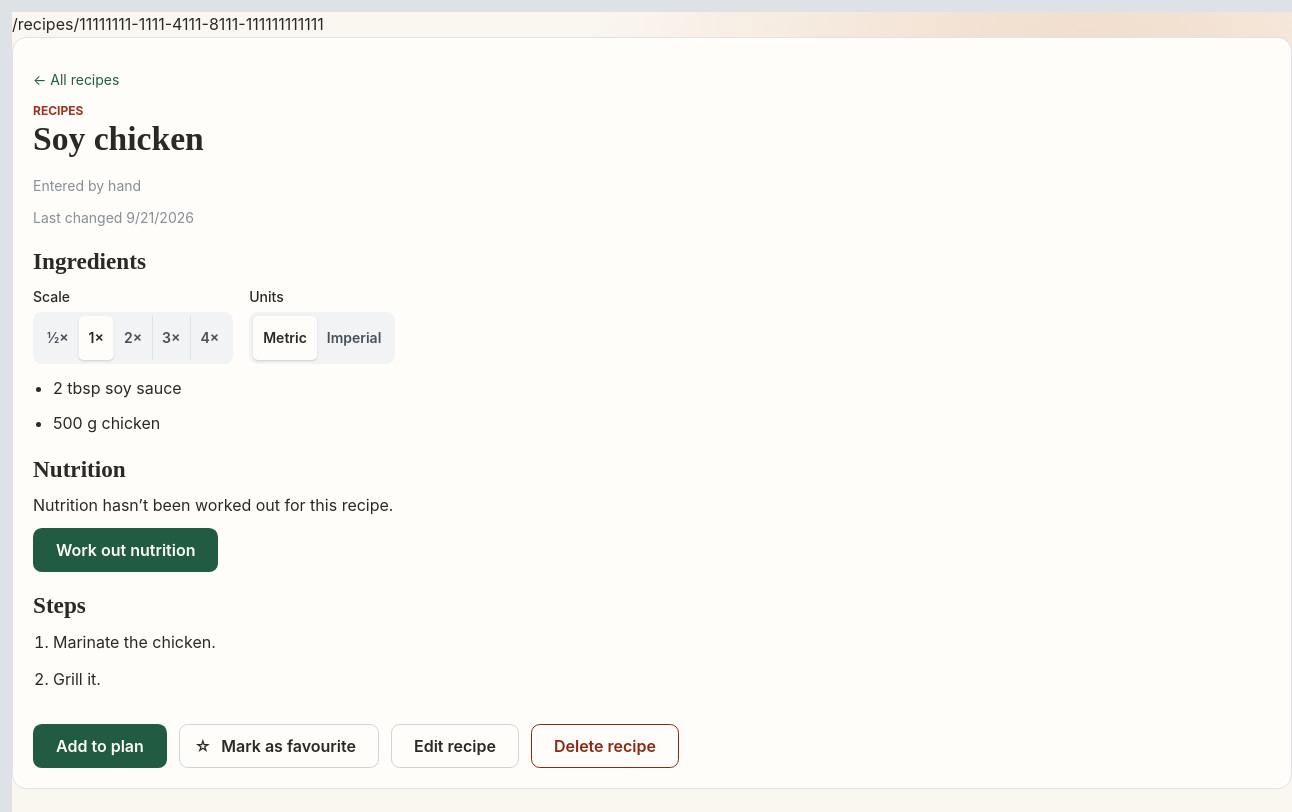
Test case: Recipe nutrition › checking the matches › asks for the current recipe when proposals race an edit
This screenshot has width=1292, height=812.
Click the button "Work out nutrition" at {"x": 126, "y": 550}, box top-left (33, 528), bottom-right (218, 572)
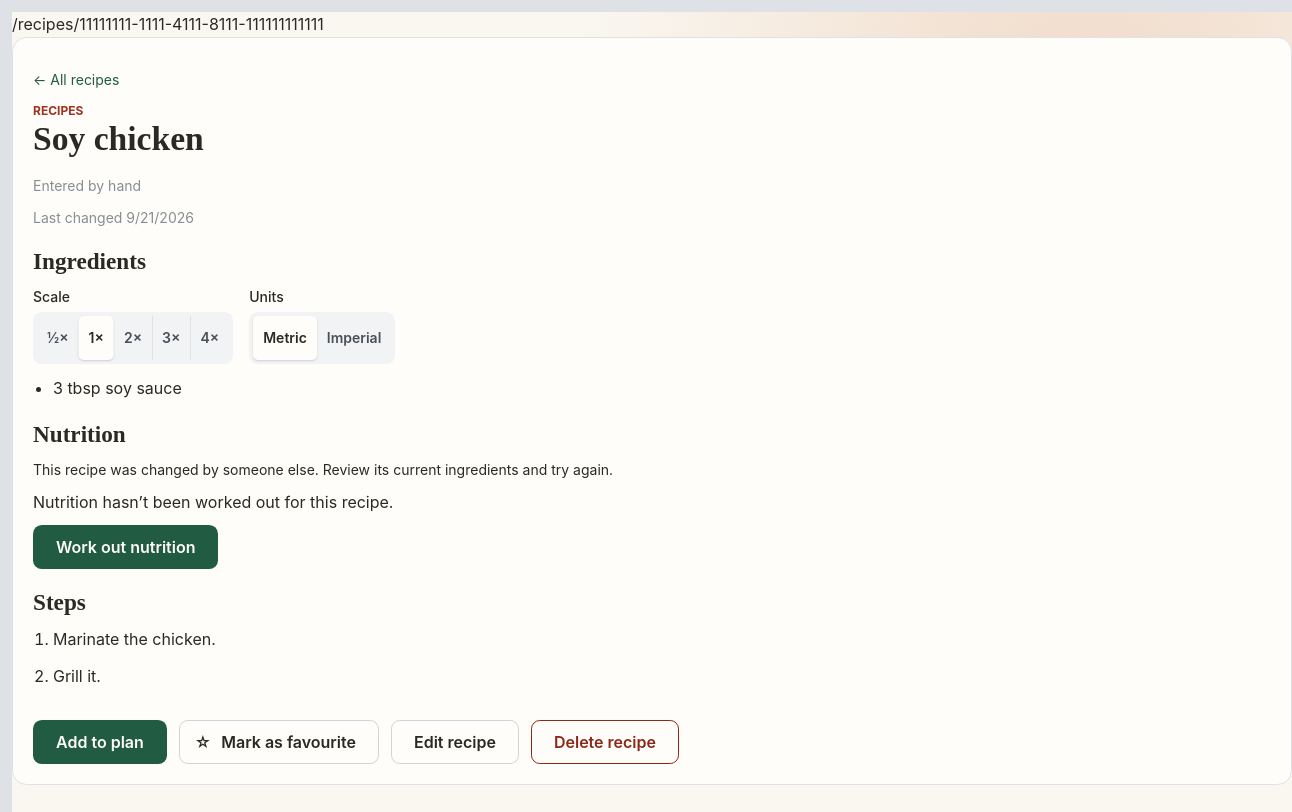
Check: the text "This recipe was changed by someone else. Review its current ingredients and try again." is shown, box top-left (33, 461), bottom-right (613, 478)
